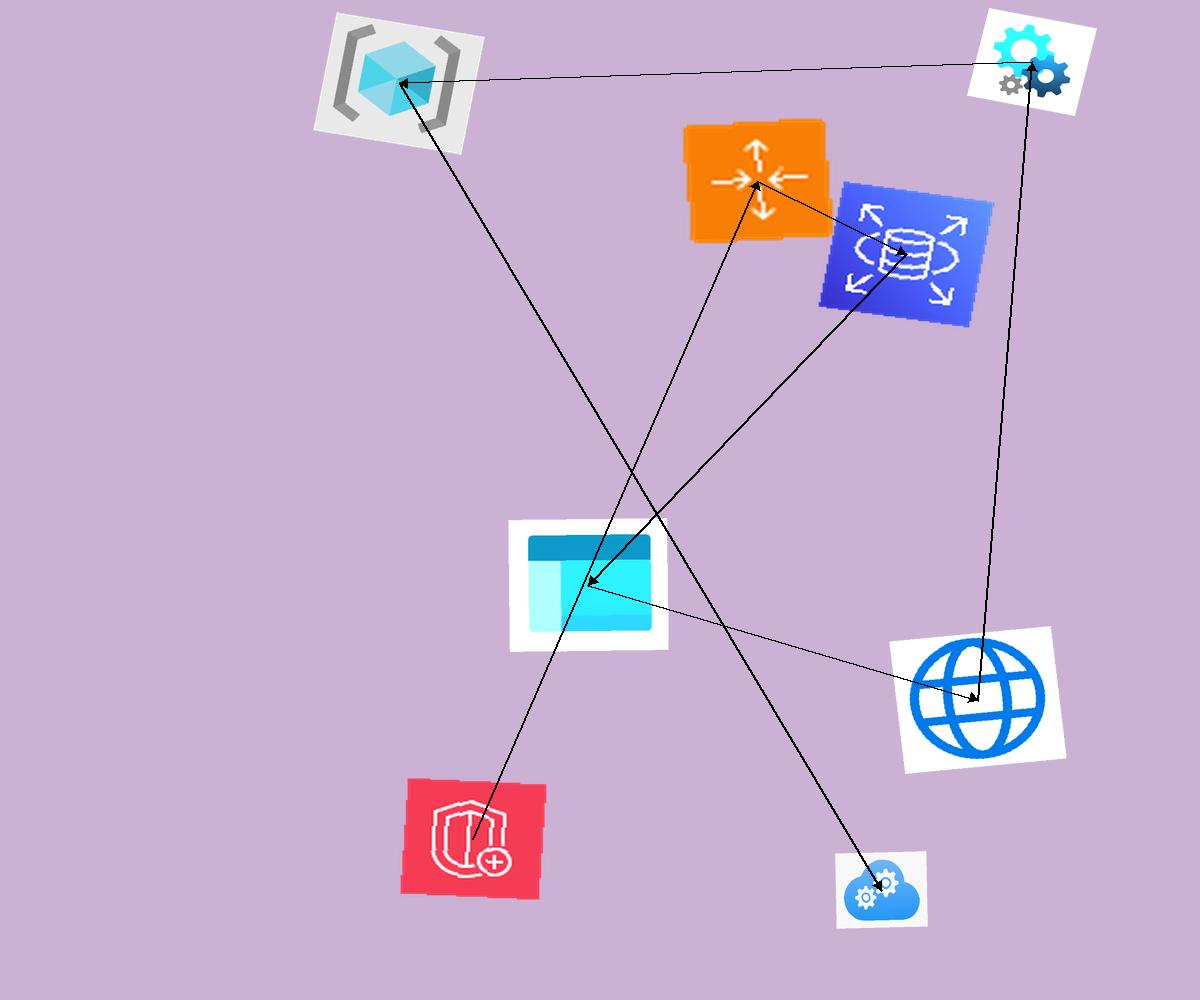AWS-RDS: (817, 180, 996, 329)
AWS-Scaling-group: (680, 116, 836, 246)
AWS-Shield: (399, 777, 548, 901)
Azure_api: (967, 8, 1097, 116)
Azure_cloud_services: (835, 851, 928, 929)
Azure_http: (889, 626, 1067, 774)
Azure_management-portal: (508, 518, 669, 652)
Azure_resource_group: (313, 12, 485, 155)
